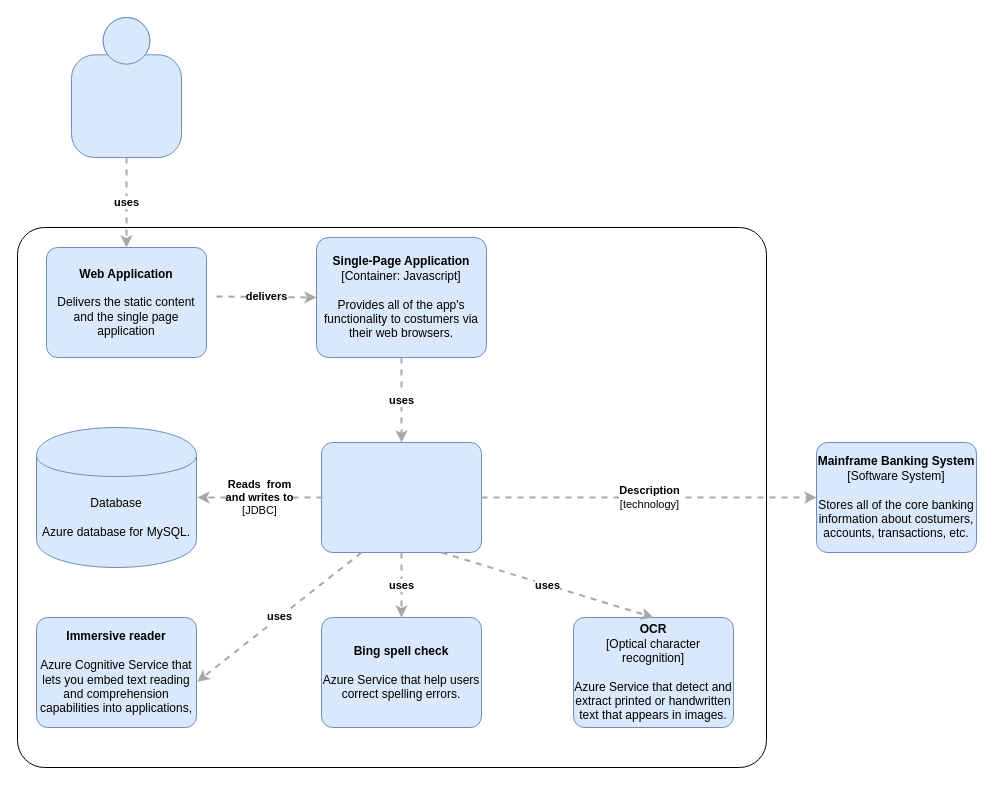
Some shapes in this 994 by 785 pixel diagram are drawn without their labels. Here are the shapes that lost their labels. From the top down, the box of each, then its label:
(70, 16, 182, 158): Personal Custormer [Person] A customer with personal account, free or premium.
(16, 226, 766, 768): FriendlyText [Software System]
(320, 442, 482, 552): API Application [Container : nodejs] Provides functionality via a JSON/HTTPS API
